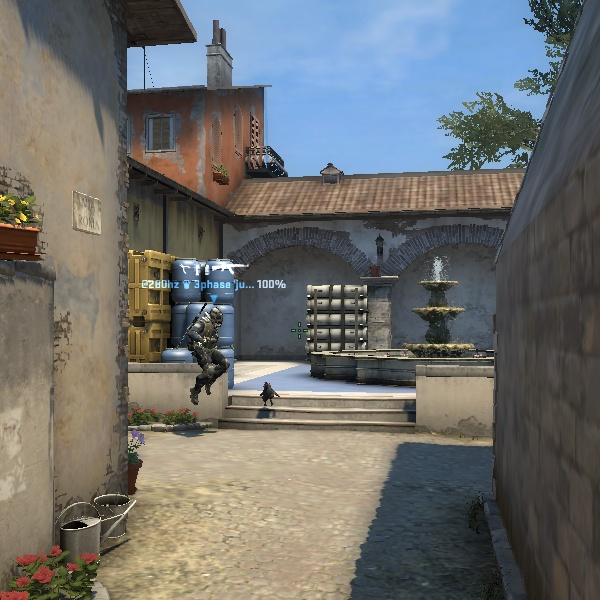ct_body: (183, 301, 239, 410)
